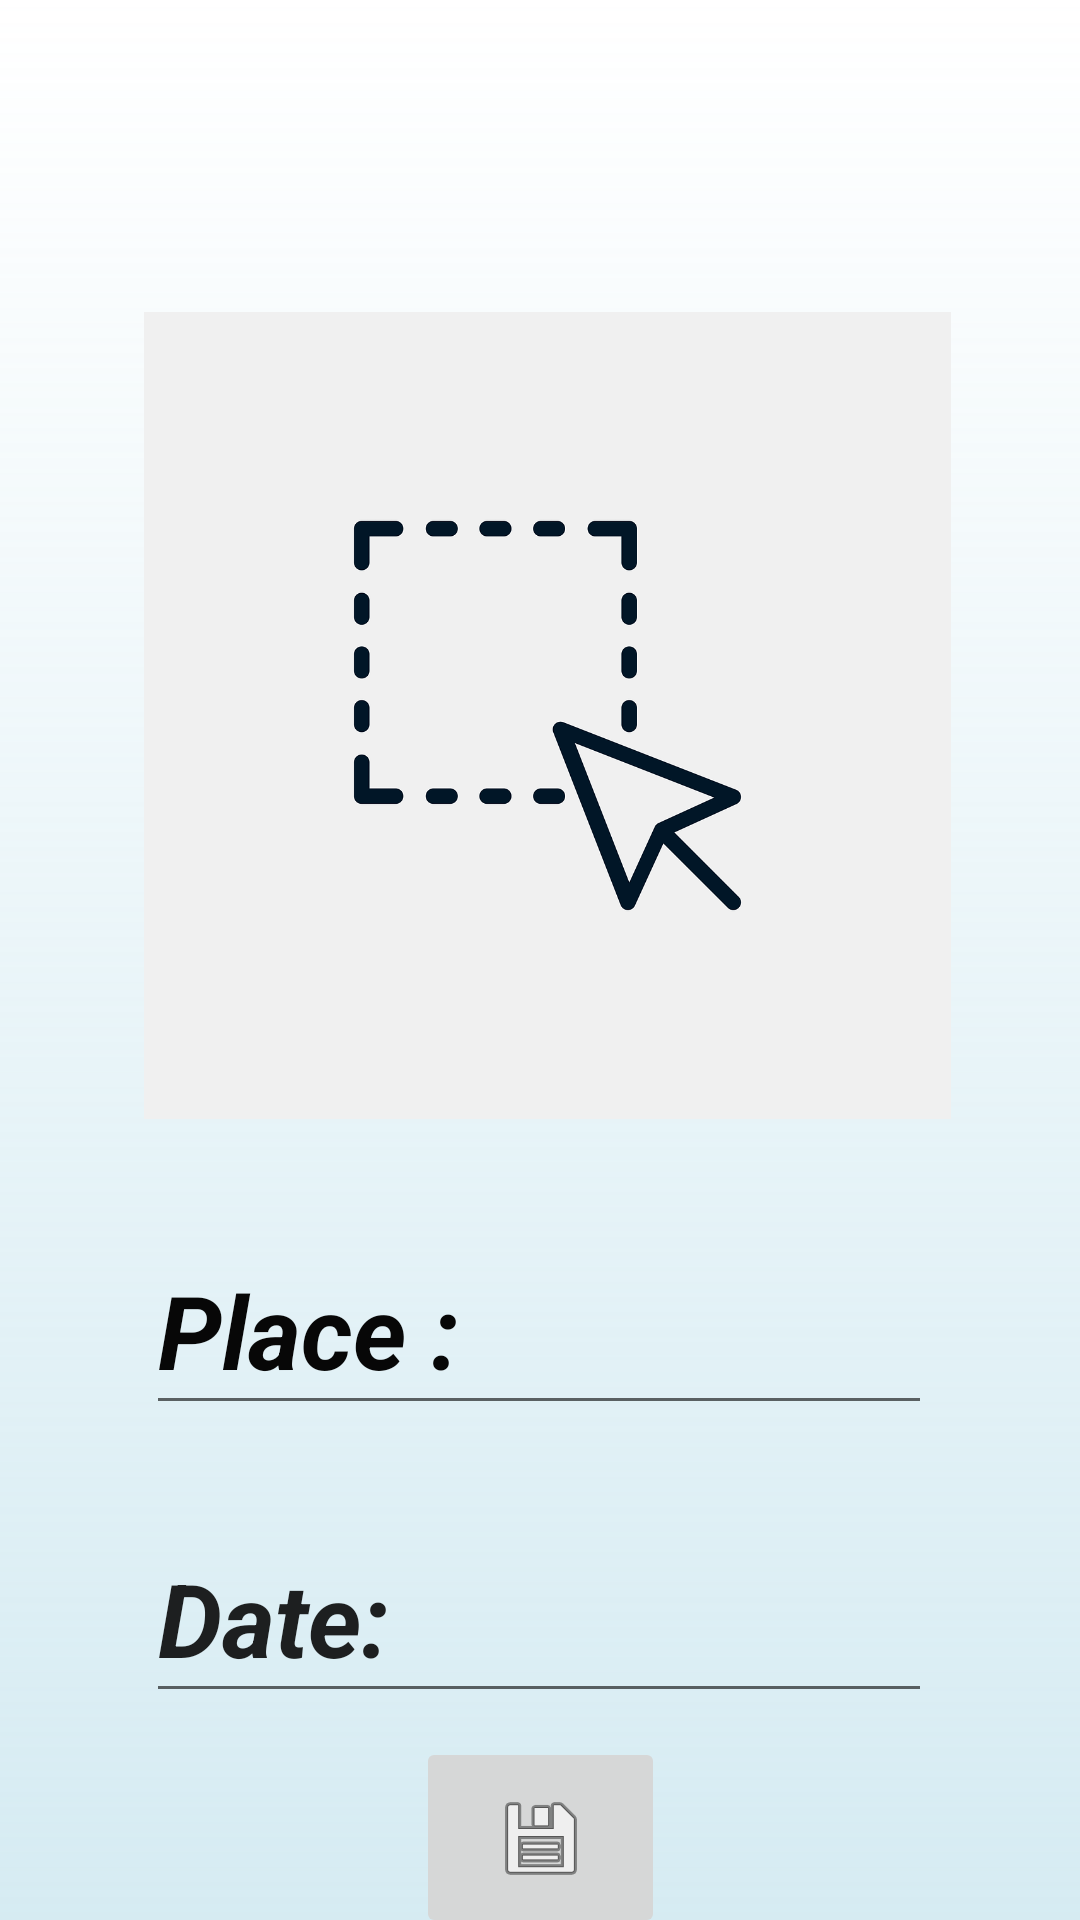

Screen size 1080x1920. Icon name, then its box in pixels as (x1, y1, x2, y2):
save: (428, 1755, 653, 1920)
